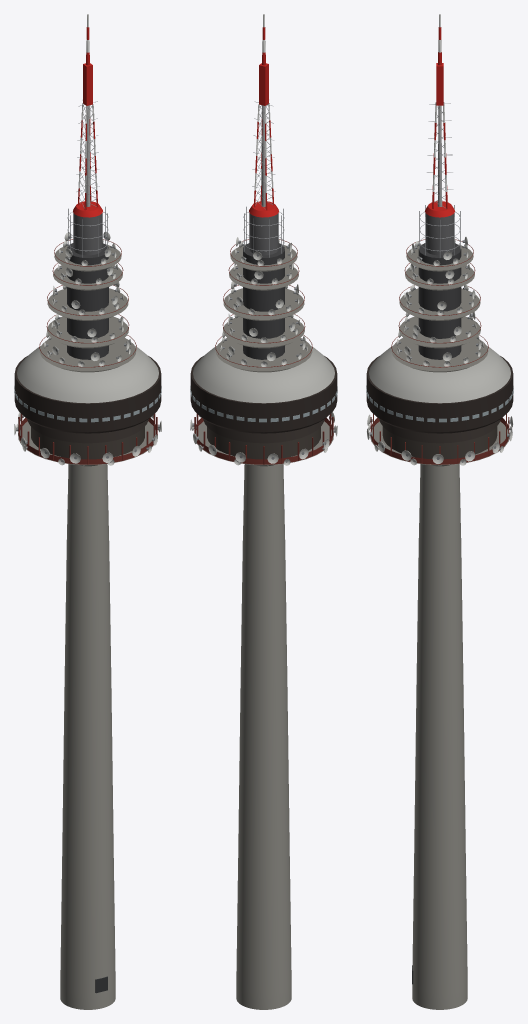
3 views of the same model, side by side, from view 1: azimuth 30°, elevation 25°; view 2: azimuth 150°, elevation 25°; view 3: azimuth 270°, elevation 25° (orthographic).
Visible parts, largest first — view 1: shaft, head, steel, antennas; view 2: shaft, head, steel, antennas; view 3: shaft, head, steel, antennas.
Part boxes in pixels (x1,y1,x2,y2): shaft: (60,464,115,1009); head: (14,213,161,465); steel: (18,14,157,464); antennas: (14,231,161,465); shaft: (236,464,291,1009); head: (190,213,337,465); steel: (194,14,333,464); antennas: (190,237,337,465); shaft: (412,464,467,1009); head: (366,213,513,465); steel: (370,14,509,464); antennas: (366,237,513,465).
Bounding box in the file's own units: 31.92 × 235 × 31.92.
